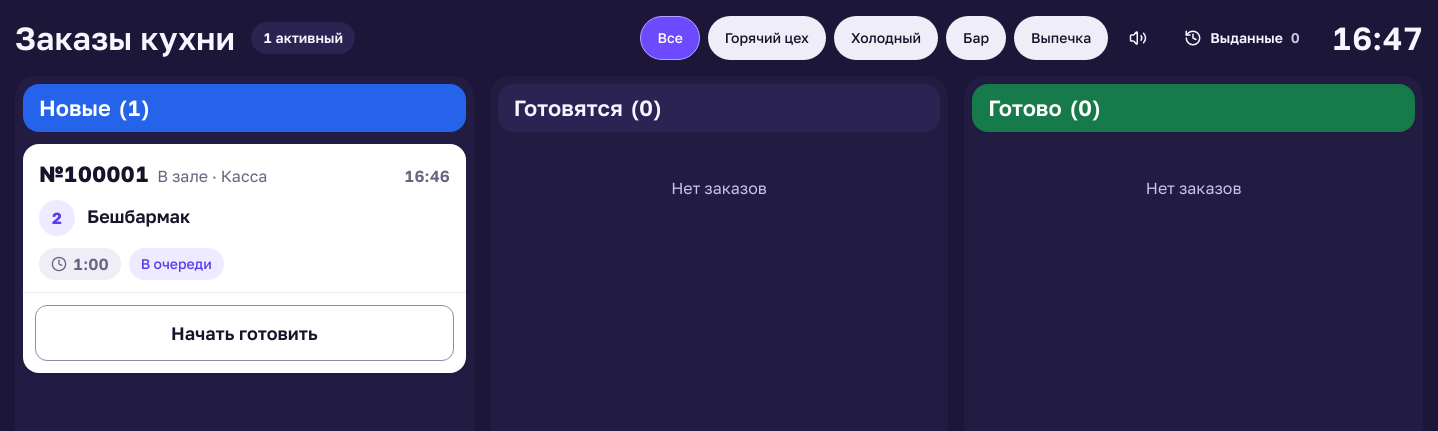
Test: KitchenBoard (W1-KDS-02) › shows the server's refusal on the ticket
Click the button "Начать готовить".
click(244, 333)  # box [35,305,454,361]
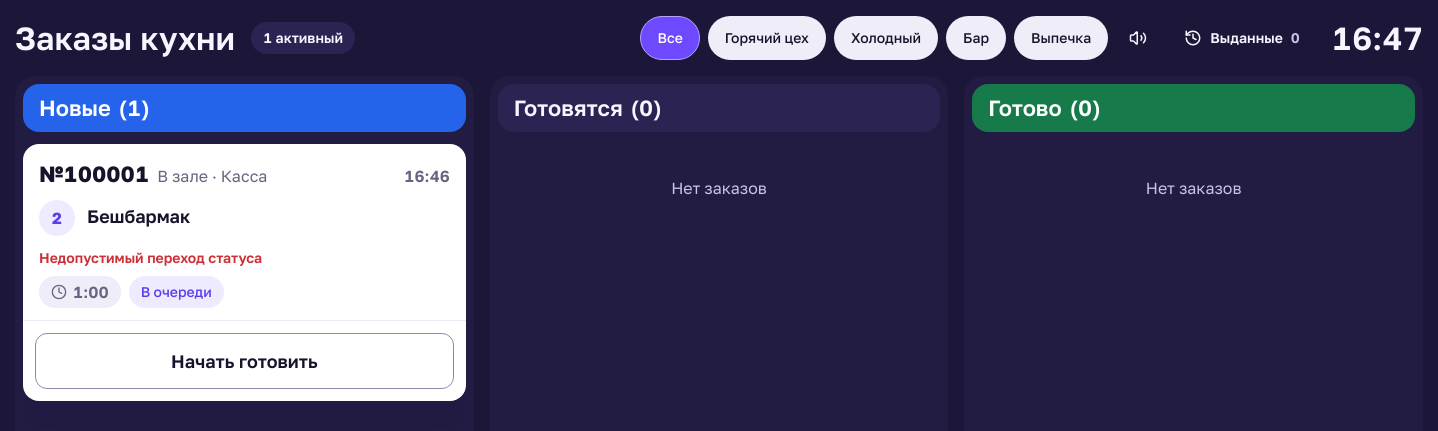
Expected: the message reads "Недопустимый переход статуса", [39,249,262,266]
